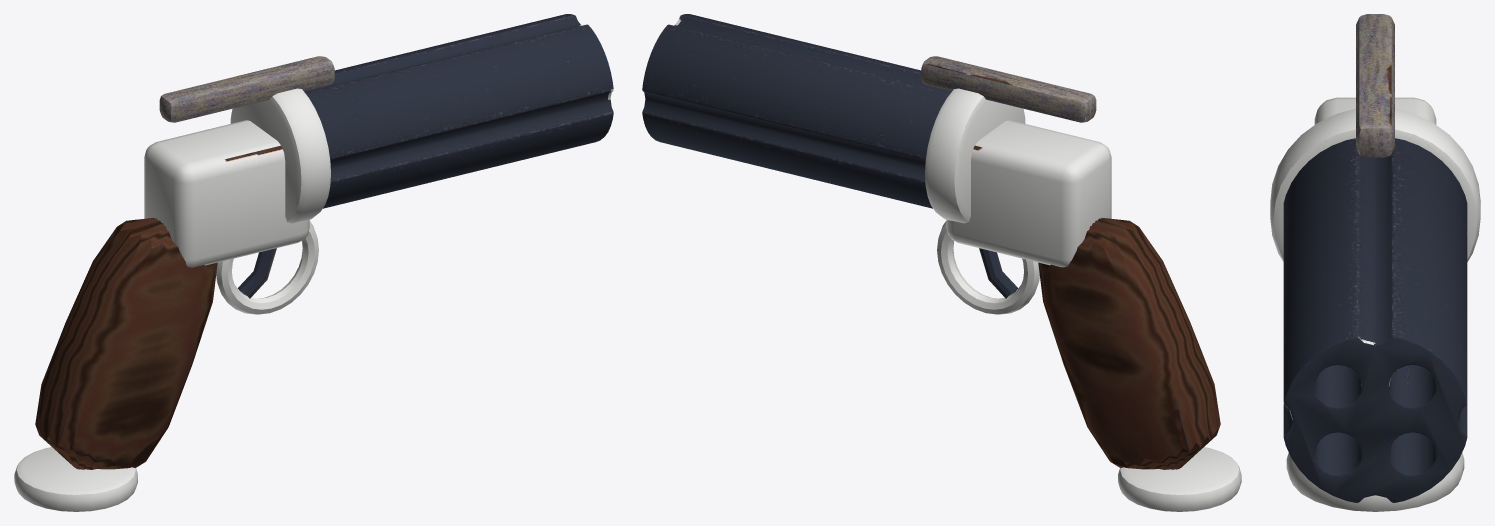
Rendered from pepperbox.glb.
3 views of the same model, side by side, from view 1: azimuth 30°, elevation 25°; view 2: azimuth 150°, elevation 25°; view 3: azimuth 270°, elevation 25° (orthographic). The views are drawn at different scales.
Visible parts, largest first — view 1: cluster, grip, frame, nipple_shield, butt_cap, bar_hammer, guard, trigger; view 2: cluster, grip, frame, nipple_shield, butt_cap, bar_hammer, guard, trigger; view 3: cluster, nipple_shield, bar_hammer, butt_cap, frame.
Part boxes in pixels (x1,y1,x2,y2): cluster: (304,14,613,208); grip: (35,218,217,469); frame: (144,120,309,267); nipple_shield: (230,88,330,223); butt_cap: (14,447,137,511); bar_hammer: (159,56,334,122); guard: (216,221,318,314); trigger: (238,248,276,298); cluster: (642,14,951,208); grip: (1038,218,1220,469); frame: (946,120,1111,267); nipple_shield: (925,88,1025,223); butt_cap: (1118,447,1241,511); bar_hammer: (921,56,1096,122); guard: (937,221,1039,314); trigger: (979,248,1018,298); cluster: (1283,138,1467,502); nipple_shield: (1270,108,1480,261); bar_hammer: (1356,14,1394,157); butt_cap: (1286,453,1464,511); frame: (1314,97,1436,124).
Bounding box in the file's own units: 0.167 × 0.1055 × 0.038.
Materials: 1 (1 with a texture image).
